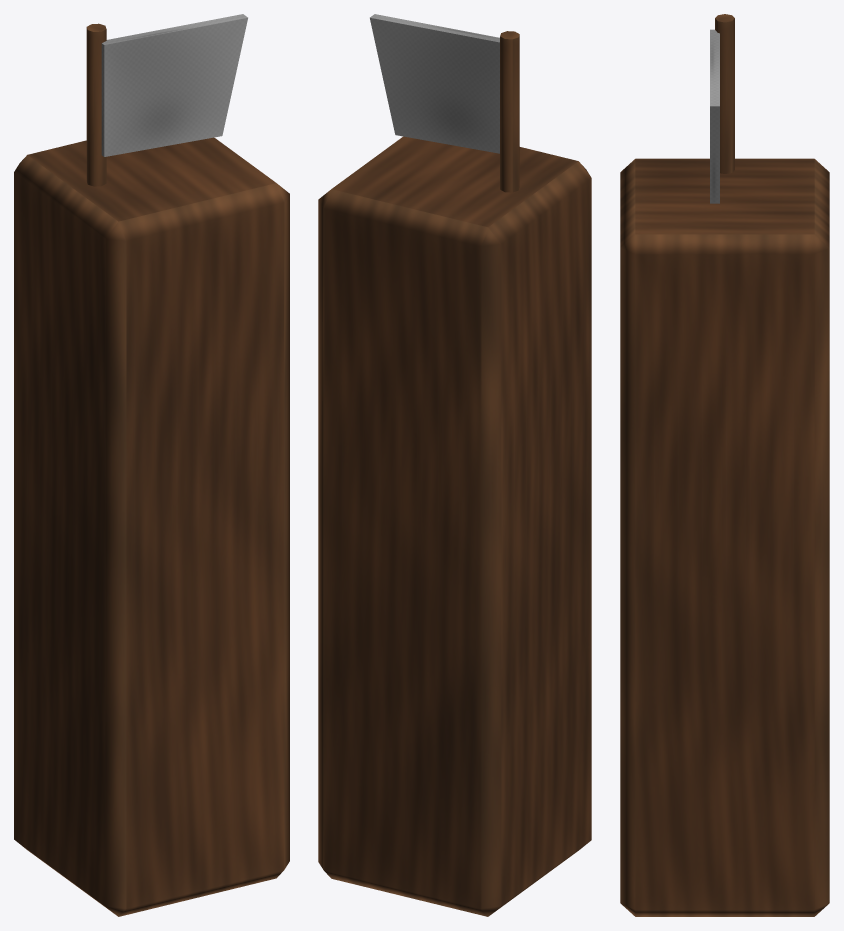
File: Furn_Sword_ArenaPost.fbx
3 views of the same model, side by side, from view 1: azimuth 30°, elevation 25°; view 2: azimuth 150°, elevation 25°; view 3: azimuth 270°, elevation 25° (orthographic).
Parts seen in each view (by area): view 1: Furn_Sword_ArenaPost; view 2: Furn_Sword_ArenaPost; view 3: Furn_Sword_ArenaPost.
Boxes of the visible parts, x1,y1,x2,y2 form: Furn_Sword_ArenaPost: (14, 14, 289, 916); Furn_Sword_ArenaPost: (318, 14, 591, 916); Furn_Sword_ArenaPost: (620, 14, 829, 916).
Bounding box in the file's own units: 0.25 × 1.1 × 0.25.
Materials: 2 (2 with a texture image).
